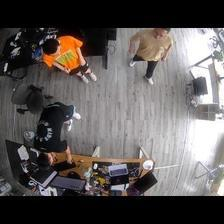normal: (35, 100, 81, 168), (40, 36, 97, 86), (127, 28, 172, 83)
